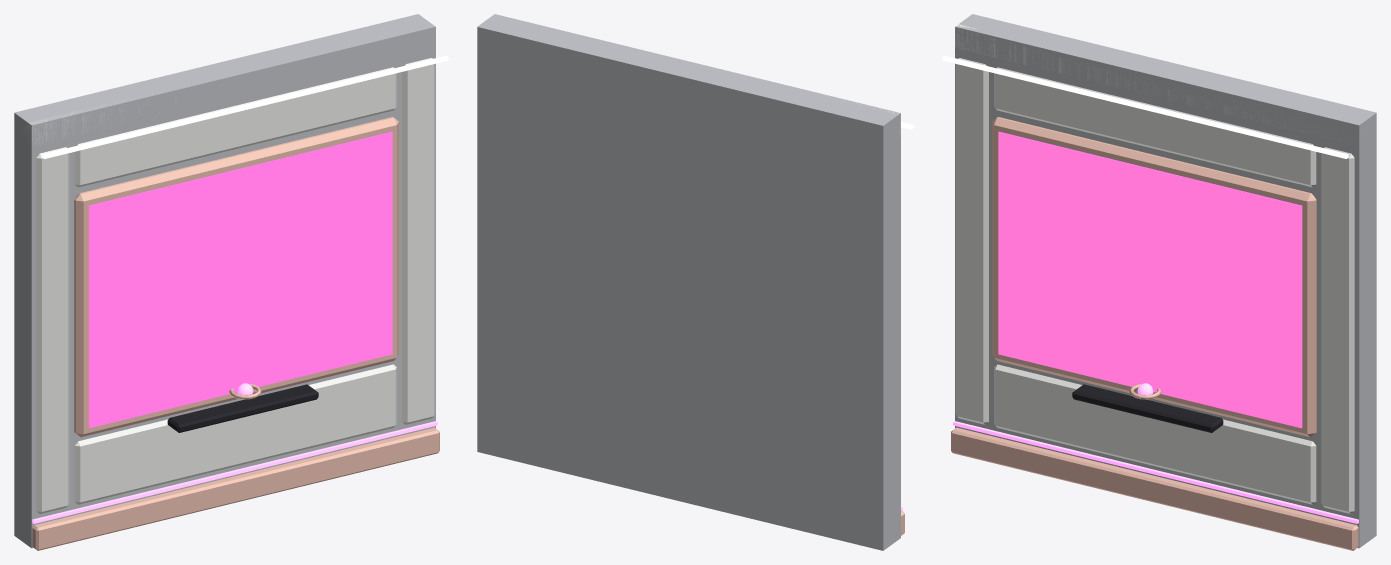
The model's file is wall_ad.glb.
3 renders of one model, left to right at view 1: azimuth 30°, elevation 25°; view 2: azimuth 150°, elevation 25°; view 3: azimuth 330°, elevation 25°, orthographic.
Parts seen in each view (by area): view 1: wall_ad; view 2: wall_ad; view 3: wall_ad.
Part boxes in pixels (box(x1,y1,x2,y2)): wall_ad: box(14, 14, 448, 550); wall_ad: box(477, 14, 913, 550); wall_ad: box(942, 14, 1376, 550).
Size of the model in its own units: 4 by 4 by 0.6365.
